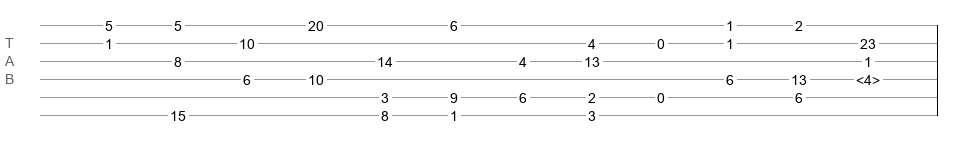0: (657, 90, 665, 100), (657, 36, 665, 46)
1: (105, 36, 113, 46), (450, 108, 458, 118), (726, 36, 734, 46), (726, 18, 734, 28), (864, 54, 872, 64)
10: (239, 36, 255, 46), (308, 72, 324, 82)
13: (584, 54, 600, 64), (791, 72, 807, 82)
14: (377, 54, 393, 64)
15: (170, 108, 186, 118)
2: (588, 90, 596, 100), (795, 18, 803, 28)
20: (308, 18, 324, 28)
23: (860, 36, 876, 46)
3: (381, 90, 389, 100), (588, 108, 596, 118)
4: (519, 54, 527, 64), (588, 36, 596, 46)
5: (105, 18, 113, 28), (174, 18, 182, 28)
6: (243, 72, 251, 82), (450, 18, 458, 28), (519, 90, 527, 100), (726, 72, 734, 82), (795, 90, 803, 100)
8: (174, 54, 182, 64), (381, 108, 389, 118)
9: (450, 90, 458, 100)
harmonic: (856, 72, 880, 82)
